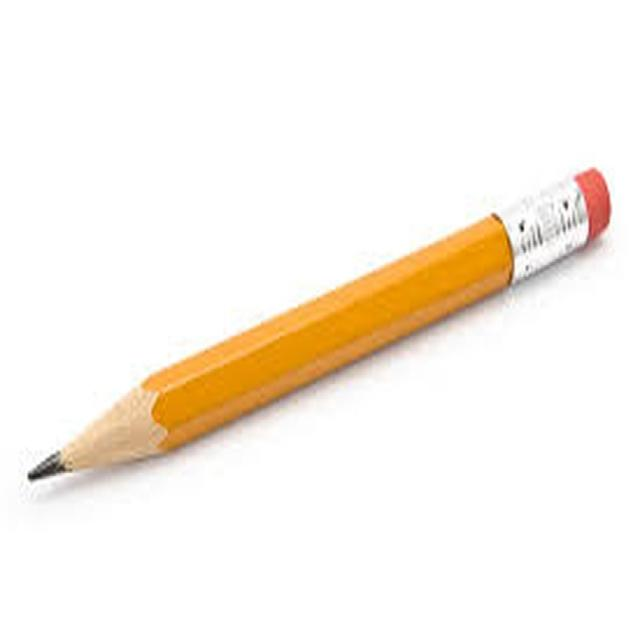pen: (19, 174, 618, 494)
